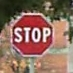stop: (11, 13, 53, 56)
